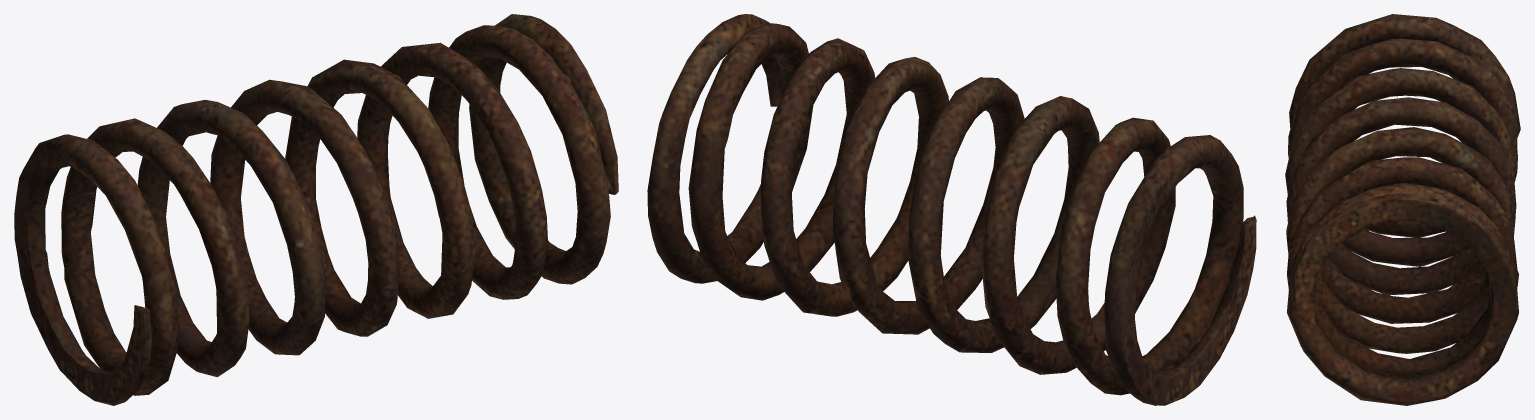
Rendered from SM_Ind_Jun_Spring_Metal_Rusty_01.gltf.
3 views of the same model, side by side, from view 1: azimuth 30°, elevation 25°; view 2: azimuth 150°, elevation 25°; view 3: azimuth 270°, elevation 25° (orthographic). The views are drawn at different scales.
Parts seen in each view (by area): view 1: SM_Ind_Jun_Spring_Metal_Rusty_01; view 2: SM_Ind_Jun_Spring_Metal_Rusty_01; view 3: SM_Ind_Jun_Spring_Metal_Rusty_01.
Boxes of the visible parts, <box> form: SM_Ind_Jun_Spring_Metal_Rusty_01: <box>14,14,618,405</box>; SM_Ind_Jun_Spring_Metal_Rusty_01: <box>647,14,1256,405</box>; SM_Ind_Jun_Spring_Metal_Rusty_01: <box>1285,14,1520,405</box>.
Bounding box in the file's own units: 0.159 × 0.0824 × 0.0804.
1 material, 1 textured.
